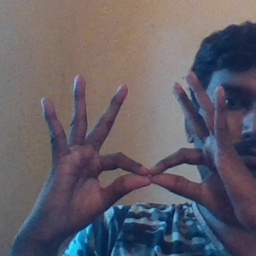B: (81, 123, 230, 219)
